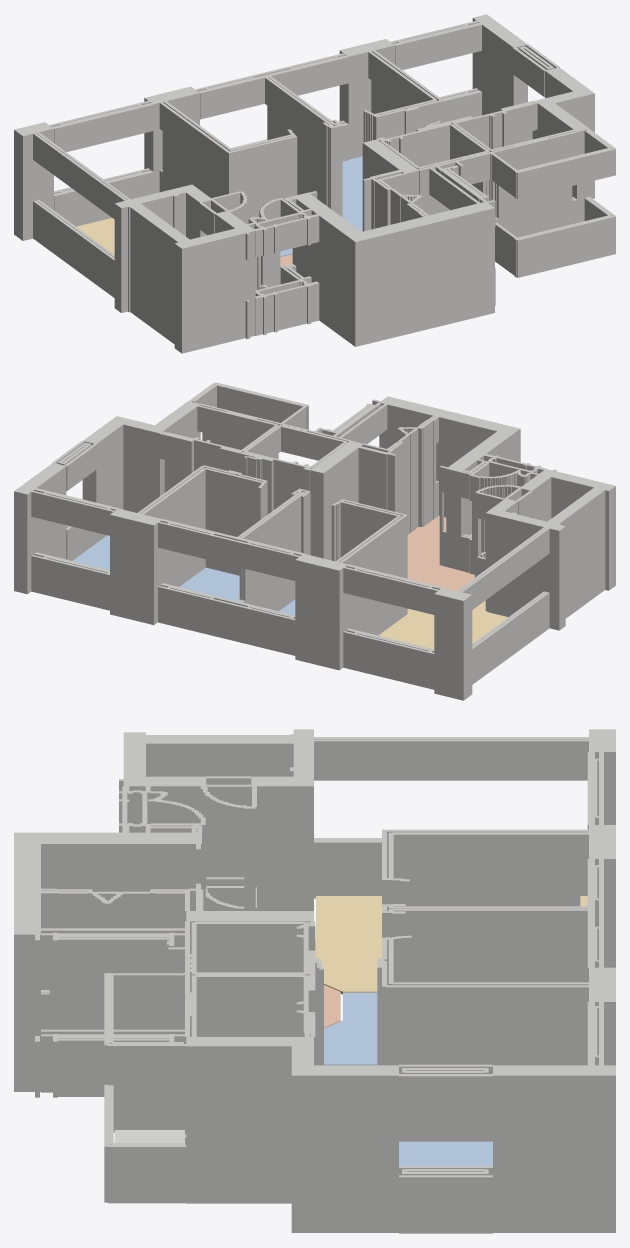
3 views of the same model, one above another, from view 1: azimuth 30°, elevation 25°; view 2: azimuth 150°, elevation 25°; view 3: azimuth 270°, elevation 25° (orthographic). The views are drawn at different scales.
Visible parts, largest first — view 1: walls, room:bedroom:2, room:living:0; view 2: walls, room:kitchen:6, room:living:0, room:bedroom:2, room:bedroom:3; view 3: walls, room:living:0, room:bedroom:1, room:bedroom:3, room:ledge:8.
Boxes of the visible parts, x1,y1,x2,y2 form: walls: [14, 14, 615, 353]; room:bedroom:2: [342, 156, 362, 231]; room:living:0: [76, 218, 114, 254]; walls: [14, 382, 615, 700]; room:kitchen:6: [407, 516, 474, 590]; room:living:0: [378, 600, 507, 648]; room:bedroom:2: [180, 567, 239, 600]; room:bedroom:3: [73, 535, 109, 569]; walls: [14, 729, 615, 1233]; room:living:0: [315, 896, 587, 994]; room:bedroom:1: [324, 992, 377, 1065]; room:bedroom:3: [399, 1141, 492, 1165]; room:ledge:8: [114, 1130, 184, 1144].
Size of the model in its own units: 13.23 by 2.8 by 9.71.
